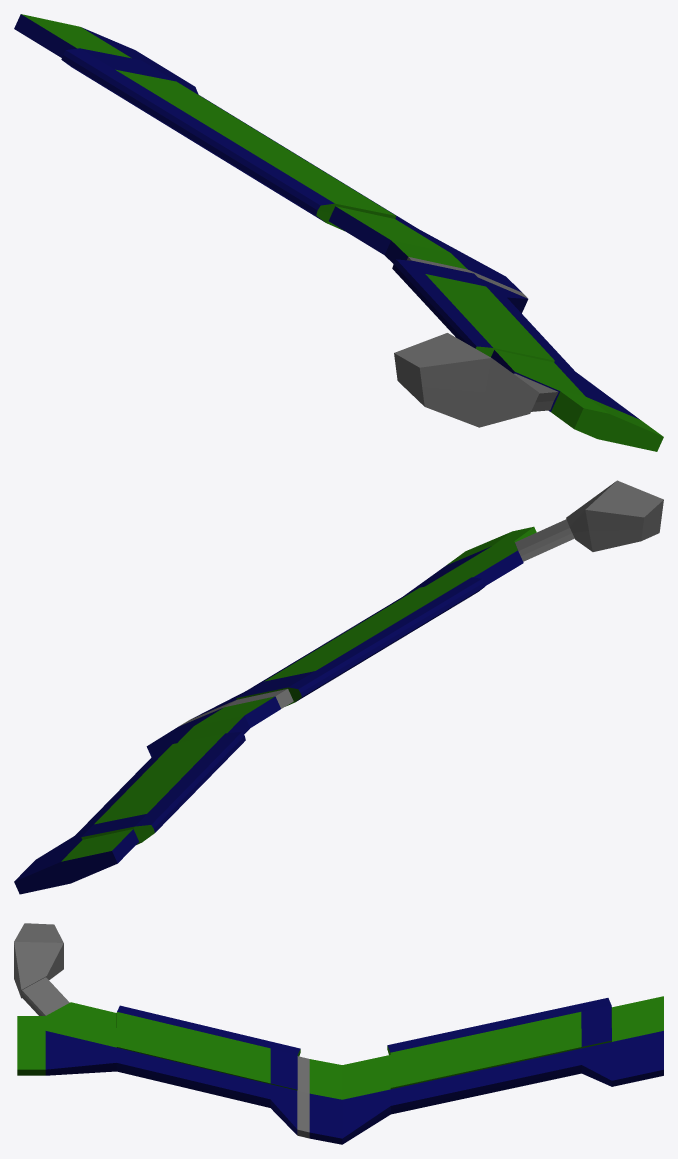
File: ARC_FinR_Part_Wipeout.fbx
The picture shows the model from 3 angles, top to bottom: view 1: azimuth 30°, elevation 25°; view 2: azimuth 150°, elevation 25°; view 3: azimuth 270°, elevation 25°; orthographic projection. The views are drawn at different scales.
Parts seen in each view (by area): view 1: ARCc_FinR_Ship; view 2: ARCc_FinR_Ship; view 3: ARCc_FinR_Ship.
Part boxes in pixels (x1=…): ARCc_FinR_Ship: x1=14, y1=14, x2=663, y2=451; ARCc_FinR_Ship: x1=14, y1=480, x2=663, y2=894; ARCc_FinR_Ship: x1=14, y1=923, x2=663, y2=1144.
Size of the model in its own units: 4.3 by 2.33 by 11.38.
